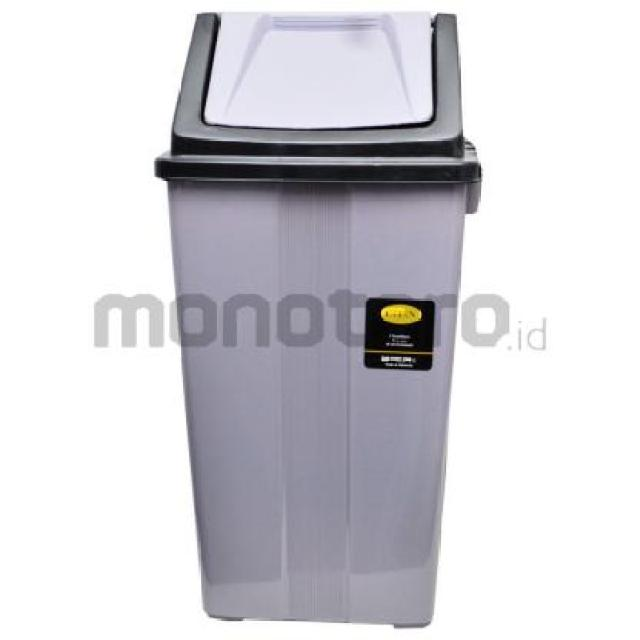garbage container: (146, 4, 497, 639)
